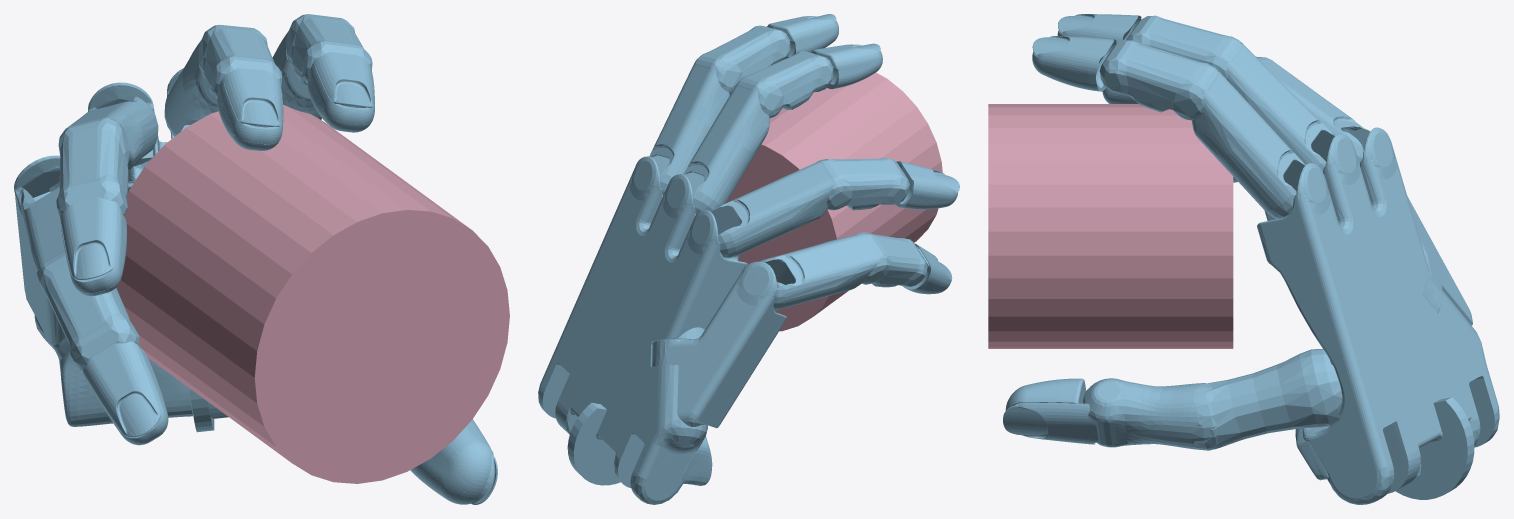
The picture shows the model from 3 angles, left to right: view 1: azimuth 30°, elevation 25°; view 2: azimuth 150°, elevation 25°; view 3: azimuth 270°, elevation 25°; orthographic projection. The views are drawn at different scales.
Parts seen in each view (by area): view 1: cylinder_medium.stl, world; view 2: world, cylinder_medium.stl; view 3: world, cylinder_medium.stl.
Part boxes in pixels (bbox=[...]): cylinder_medium.stl: bbox=[116, 105, 509, 483]; world: bbox=[14, 14, 497, 504]; world: bbox=[538, 14, 959, 504]; cylinder_medium.stl: bbox=[726, 72, 942, 331]; world: bbox=[1003, 14, 1499, 504]; cylinder_medium.stl: bbox=[988, 104, 1233, 348].
Bounding box in the file's own units: 0.1353 × 0.1564 × 0.167.
